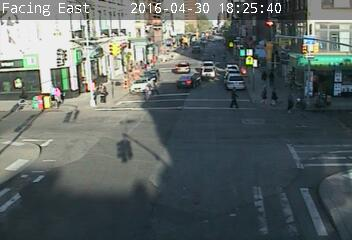neg: (12, 133, 33, 161), (152, 26, 171, 51), (131, 139, 149, 164), (246, 171, 264, 194), (315, 83, 332, 106), (42, 37, 59, 59), (125, 32, 141, 54), (66, 107, 82, 127), (183, 88, 199, 108), (95, 140, 109, 159), (209, 132, 222, 149), (217, 34, 229, 51), (171, 61, 181, 75), (191, 43, 199, 54)
pos: (223, 83, 244, 111), (281, 90, 300, 117), (89, 79, 107, 103), (265, 85, 283, 108), (256, 84, 274, 107), (46, 83, 63, 105), (138, 80, 154, 102), (257, 68, 270, 84), (149, 76, 161, 93), (265, 69, 277, 85)
